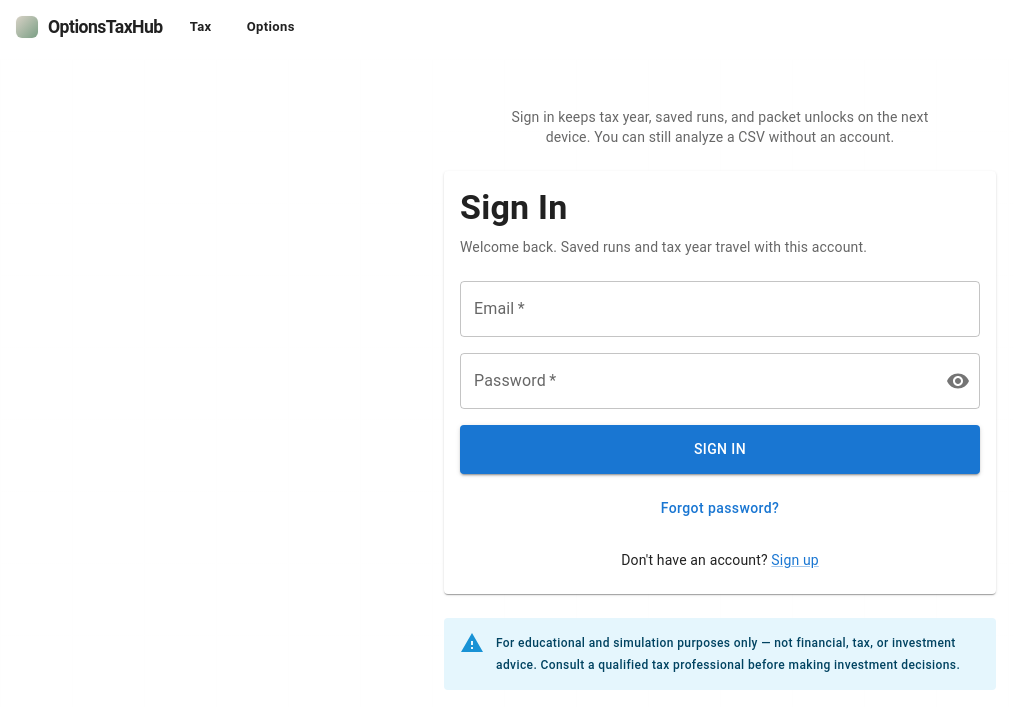
Test: Sign In Page › explains that forgot password emails a link to set a new password
What coordinates should you click on to do the following:
click the button "Forgot password?"
I would click on:
 (720, 508)
Its box is [460, 490, 980, 526].
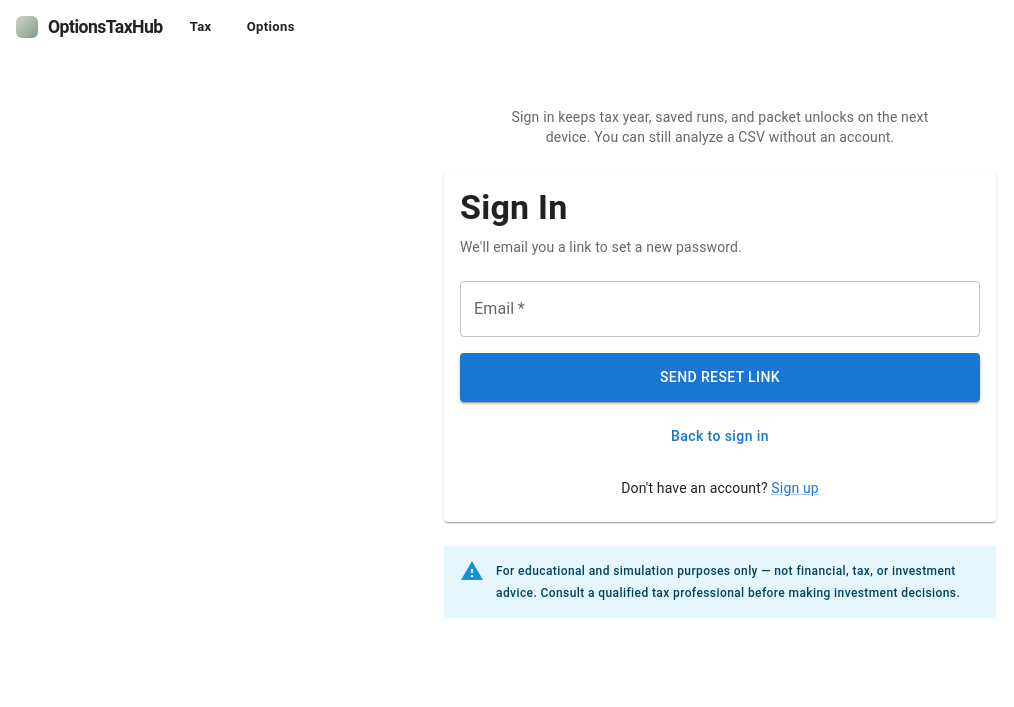
expect the text "We'll email you a link to set a new password." is shown: met, box [460, 239, 742, 255]
